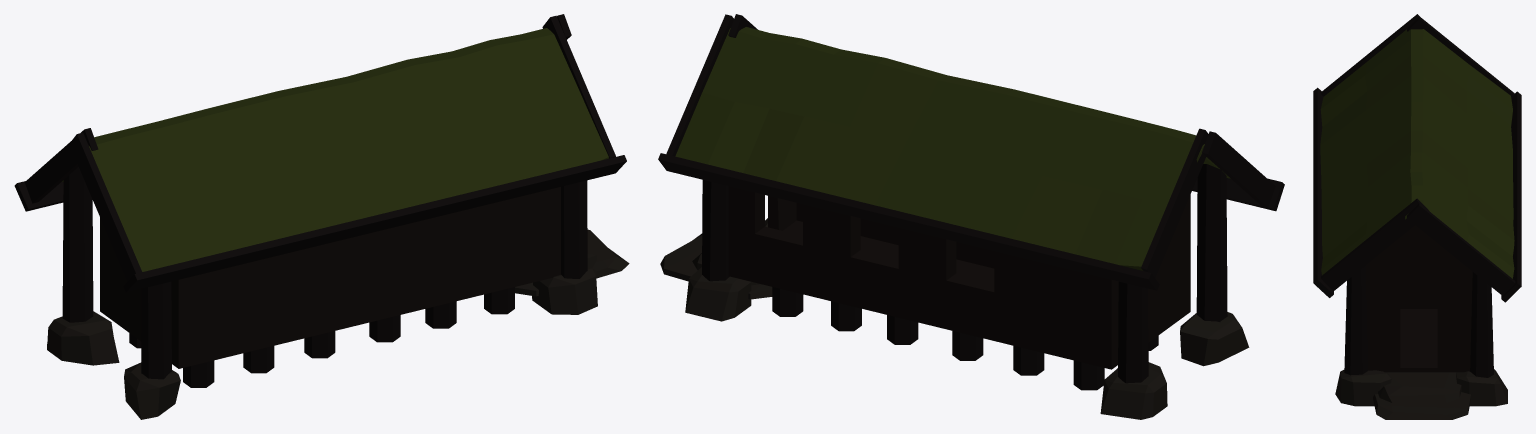
The model's file is Village_SodHouse_2.fbx.
The picture shows the model from 3 angles, left to right: view 1: azimuth 30°, elevation 25°; view 2: azimuth 150°, elevation 25°; view 3: azimuth 270°, elevation 25°; orthographic projection. The views are drawn at different scales.
Visible parts, largest first — view 1: Village_SodHouse_2; view 2: Village_SodHouse_2; view 3: Village_SodHouse_2.
Part boxes in pixels (x1,y1,x2,y2): Village_SodHouse_2: (14,14,629,419); Village_SodHouse_2: (658,14,1284,419); Village_SodHouse_2: (1313,14,1521,419).
Size of the model in its own units: 1452 by 658 by 604.
